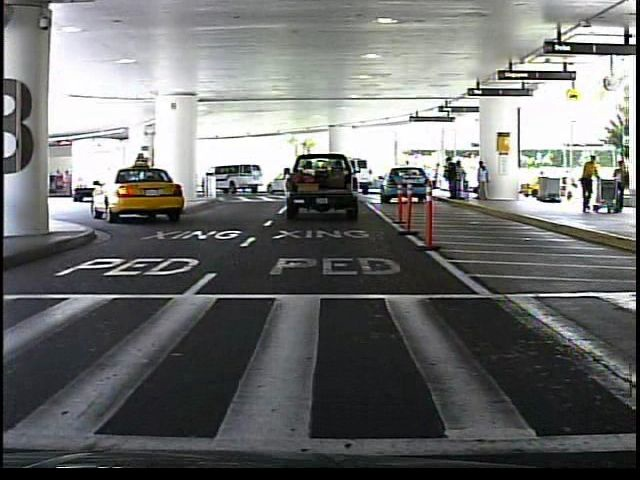person: (577, 152, 603, 217), (614, 157, 633, 214), (401, 158, 417, 193)
